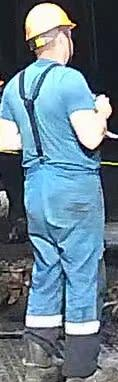helmet: (24, 2, 76, 41)
